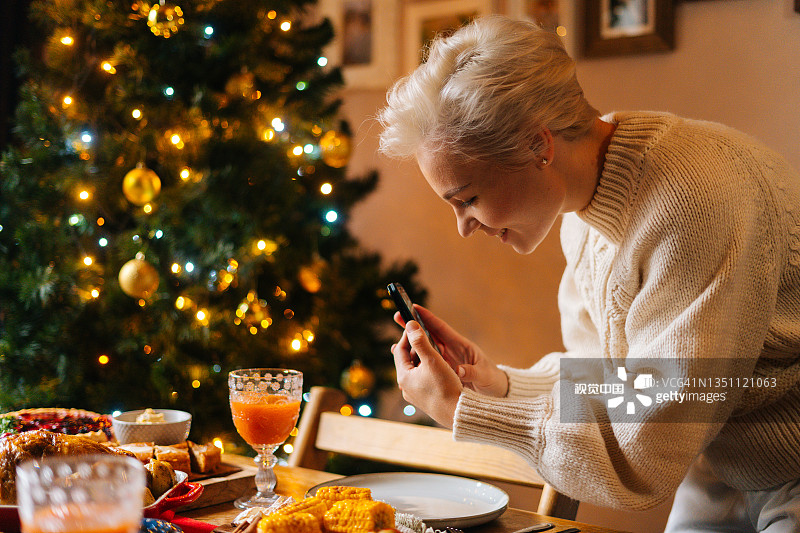taking photos: (371, 274, 539, 446)
